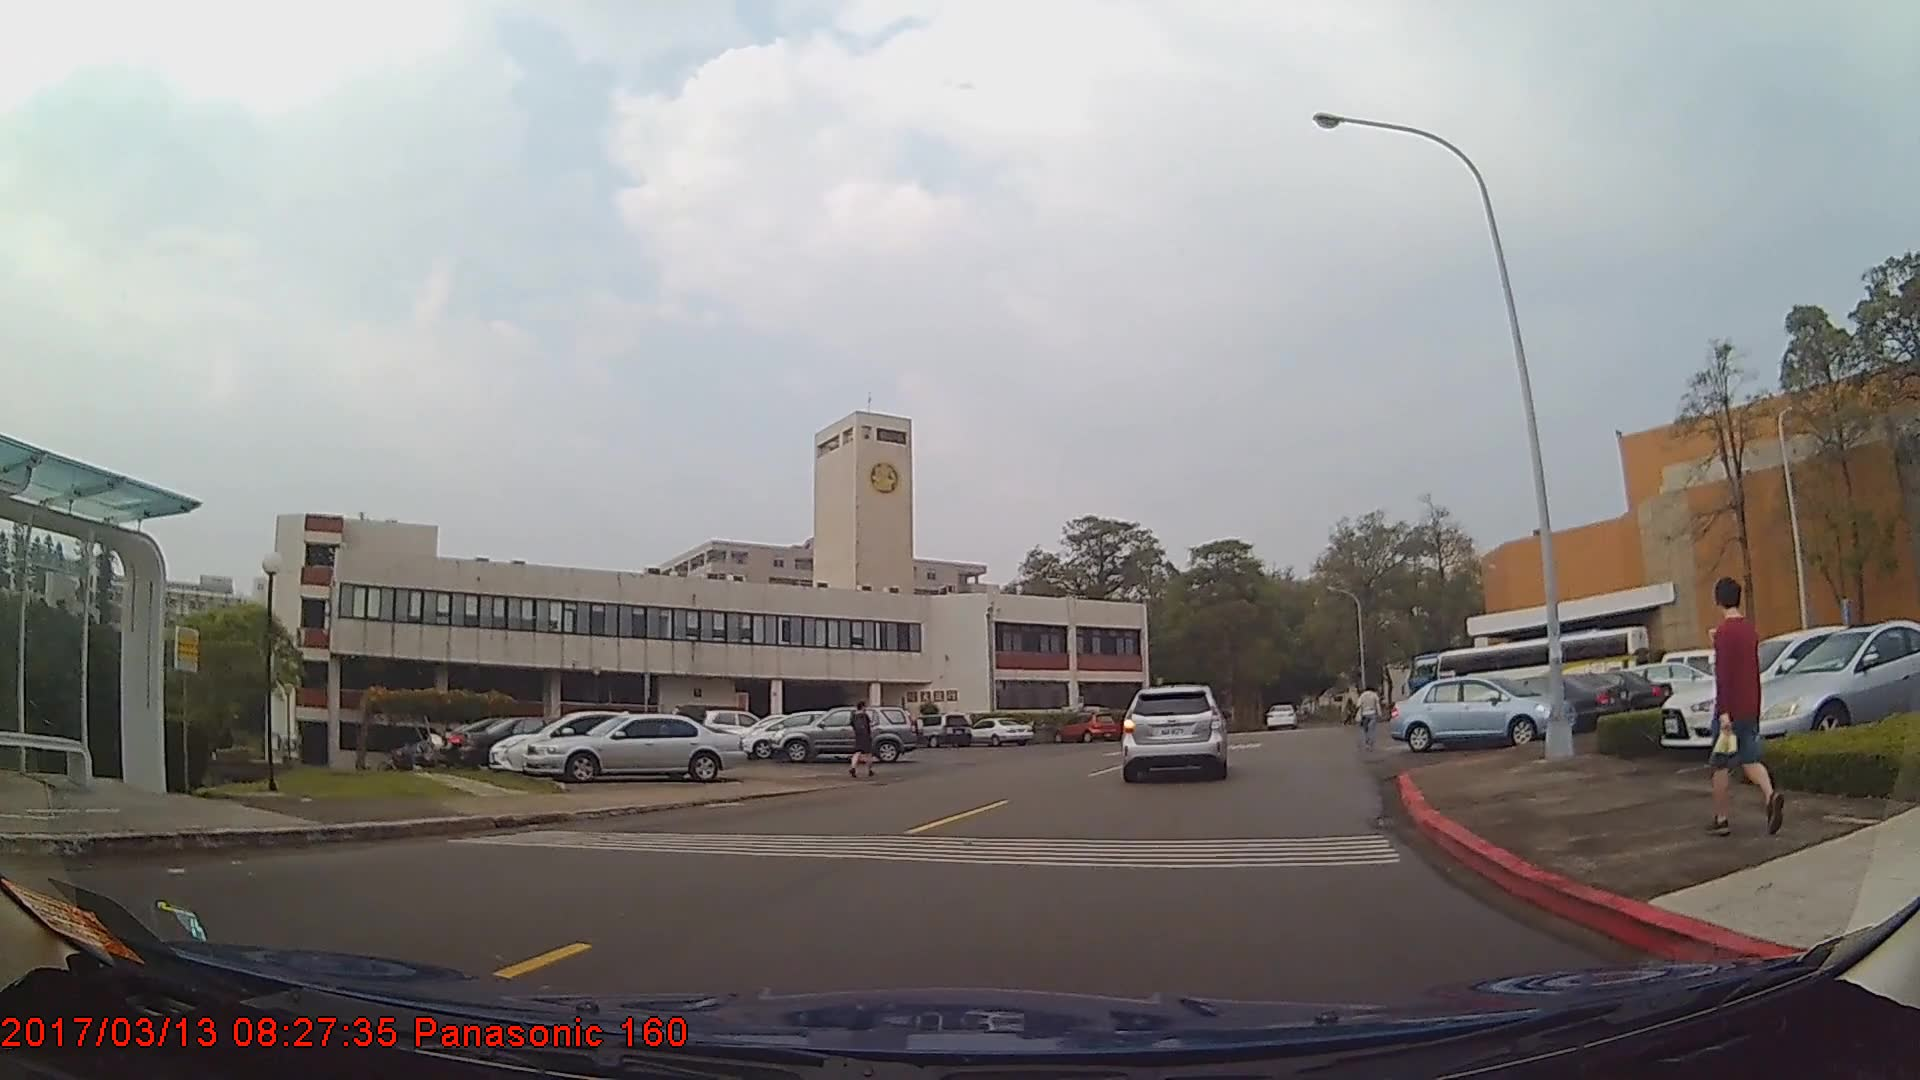pedestrian: (1711, 573, 1773, 833), (849, 701, 877, 778), (1357, 682, 1385, 750)
vehicle: (1658, 623, 1903, 747), (1732, 619, 1920, 753), (518, 711, 748, 781), (486, 707, 701, 772), (1386, 674, 1574, 746), (1454, 673, 1636, 734), (1123, 683, 1226, 783), (457, 715, 614, 772), (768, 704, 920, 761), (906, 712, 971, 747), (1055, 709, 1118, 742), (965, 716, 1033, 747), (1266, 702, 1295, 727)
